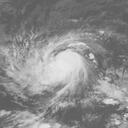cyclone: (15, 34, 100, 102)
